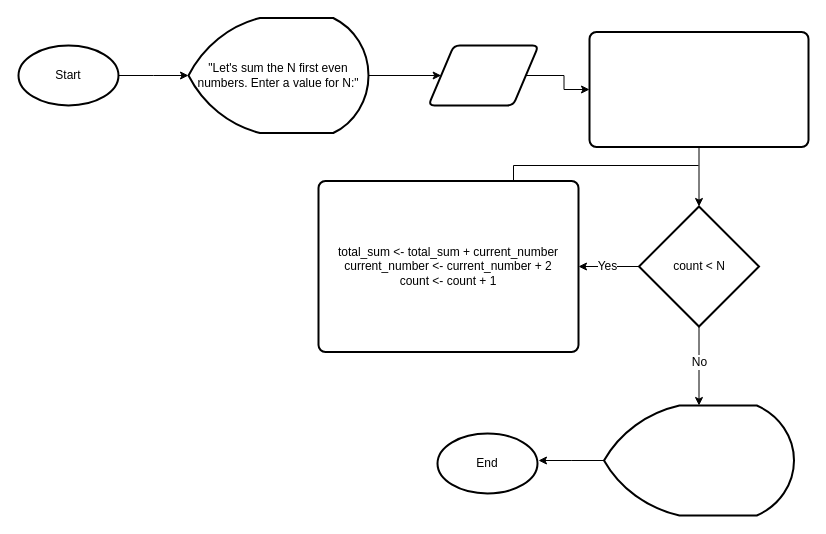
Image size: 826x534. Some labels were removed from this diagram. The box of each missing label's shape, as (x1, y1, x2, y2) in pixels:
"The sum of the first N even numbers is: " tot_sum: (602, 404, 794, 516)
count <- 0 current_number <- 2 total_sum <- 0: (588, 30, 809, 148)
N <- input: (427, 44, 539, 106)
